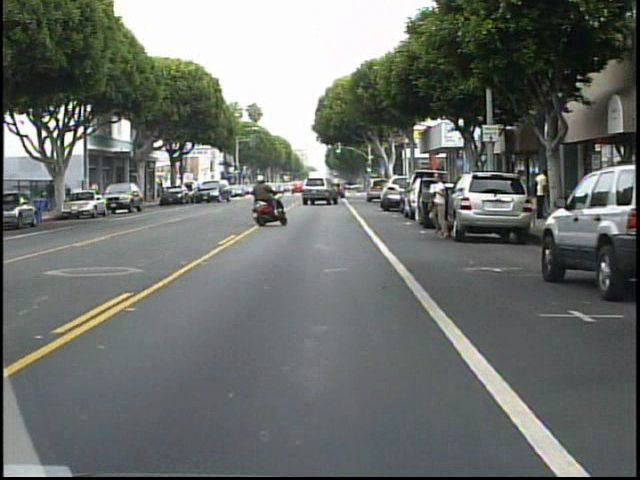person: (247, 171, 284, 223), (427, 169, 450, 240), (532, 166, 550, 226), (46, 177, 59, 210)
